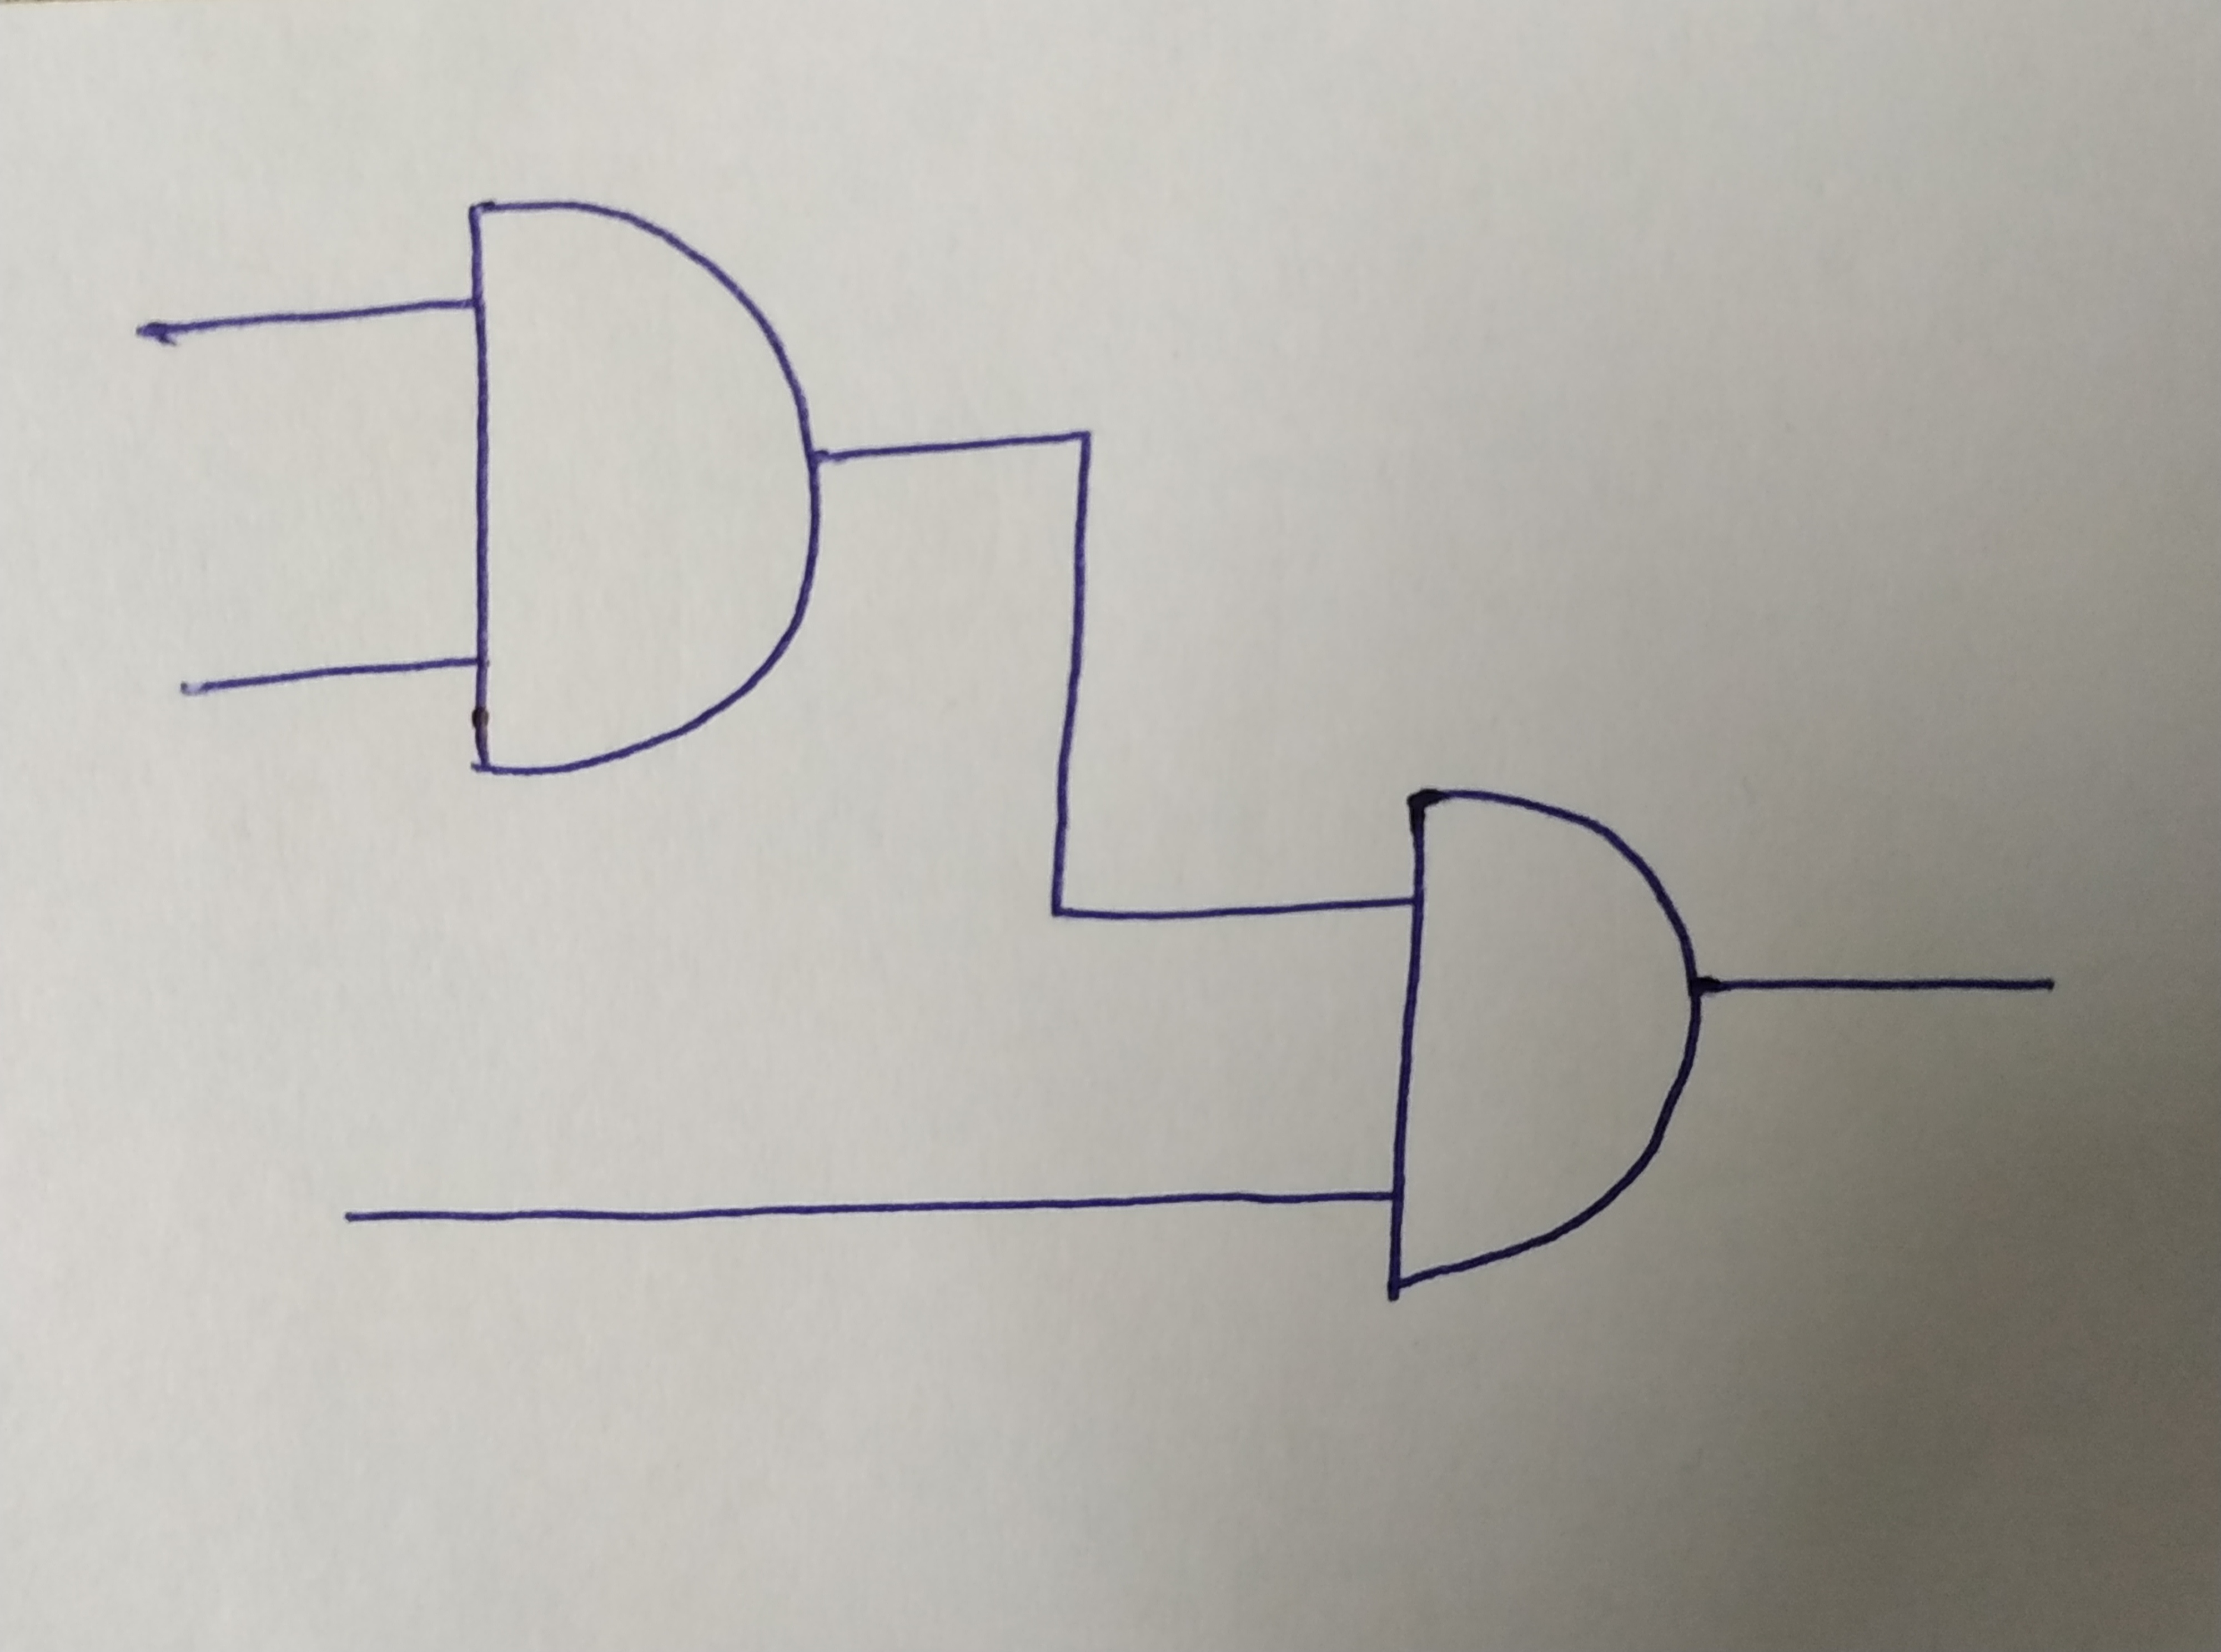and: (474, 191, 812, 772), (1397, 786, 1692, 1300)
